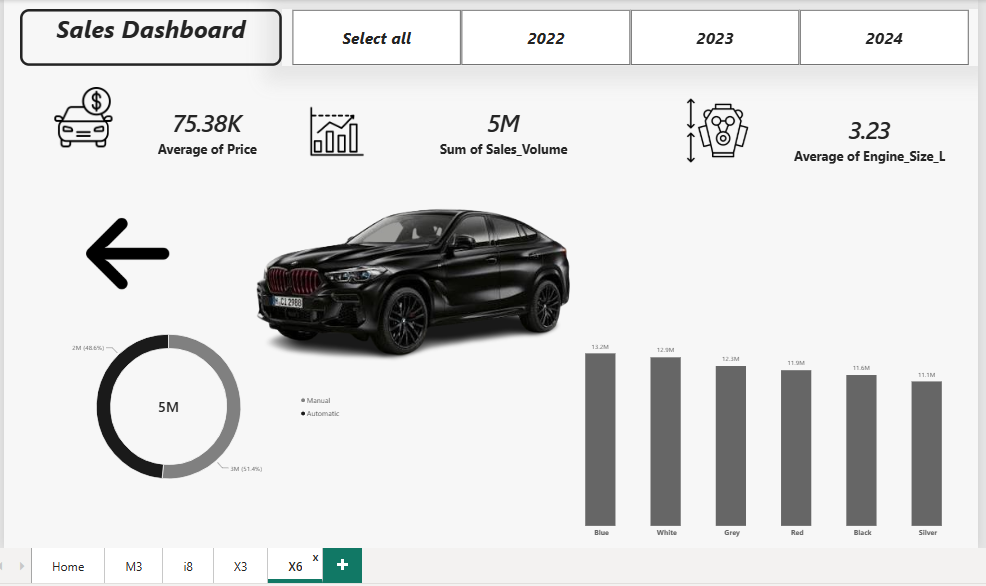

Layout of this report page (visuals, bound fields, positions):
{"tool":"powerbi","page":{"name":"X6","canvas":[1920,1080],"ordinal":4},"visuals":[{"type":"image","box":[270,239.8,1062.7,624.2],"z":0},{"type":"slicer","fields":{"Values":["BMW_Car_Sales_Classification.Year"]},"box":[548.4,17.3,1371.6,112.3],"z":1},{"type":"textbox","box":[32.4,17.3,516.2,112.3],"z":2},{"type":"image","box":[69.1,170.6,175,118.8],"z":3},{"type":"cardVisual","fields":{"Data":["Avg(BMW_Car_Sales_Classification.Price_USD)"]},"box":[222.5,149,356.4,220.3],"z":4},{"type":"image","box":[1291.7,187.9,231.1,140.4],"z":5},{"type":"cardVisual","fields":{"Data":["Avg(BMW_Car_Sales_Classification.Engine_Size_L)"]},"box":[1522.8,170.6,365,203],"z":6},{"type":"image","box":[578.9,205.2,153.4,108],"z":7},{"type":"cardVisual","fields":{"Data":["Sum(BMW_Car_Sales_Classification.Sales_Volume)"]},"box":[801.4,157.7,365,203],"z":8},{"type":"columnChart","fields":{"Category":["BMW_Car_Sales_Classification.Color"],"Y":["Sum(BMW_Car_Sales_Classification.Price)"]},"box":[1077.6,648,842.4,432],"z":9},{"type":"donutChart","fields":{"Category":["BMW_Car_Sales_Classification.Transmission"],"Y":["Sum(BMW_Car_Sales_Classification.Sales_Volume)"]},"box":[49.7,587.5,637.2,429.8],"z":10},{"type":"image","box":[84.2,416.9,317.5,164.2],"z":12}]}

Visuals, with their boxes on the page's 1920x1080 design canvas (x1, y1, x2, y2). These are canvas units, not pixel positions in the 986x586 screenshot, which may show the page scaled, cropped or inside an application window:
image: [x1=270, y1=240, x2=1333, y2=864]
slicer - BMW_Car_Sales_Classification.Year: [x1=548, y1=17, x2=1920, y2=130]
textbox: [x1=32, y1=17, x2=549, y2=130]
image: [x1=69, y1=171, x2=244, y2=289]
cardVisual - Avg(BMW_Car_Sales_Classification.Price_USD): [x1=222, y1=149, x2=579, y2=369]
image: [x1=1292, y1=188, x2=1523, y2=328]
cardVisual - Avg(BMW_Car_Sales_Classification.Engine_Size_L): [x1=1523, y1=171, x2=1888, y2=374]
image: [x1=579, y1=205, x2=732, y2=313]
cardVisual - Sum(BMW_Car_Sales_Classification.Sales_Volume): [x1=801, y1=158, x2=1166, y2=361]
columnChart - BMW_Car_Sales_Classification.Color x Sum(BMW_Car_Sales_Classification.Price): [x1=1078, y1=648, x2=1920, y2=1080]
donutChart - BMW_Car_Sales_Classification.Transmission x Sum(BMW_Car_Sales_Classification.Sales_Volume): [x1=50, y1=588, x2=687, y2=1017]
image: [x1=84, y1=417, x2=402, y2=581]
